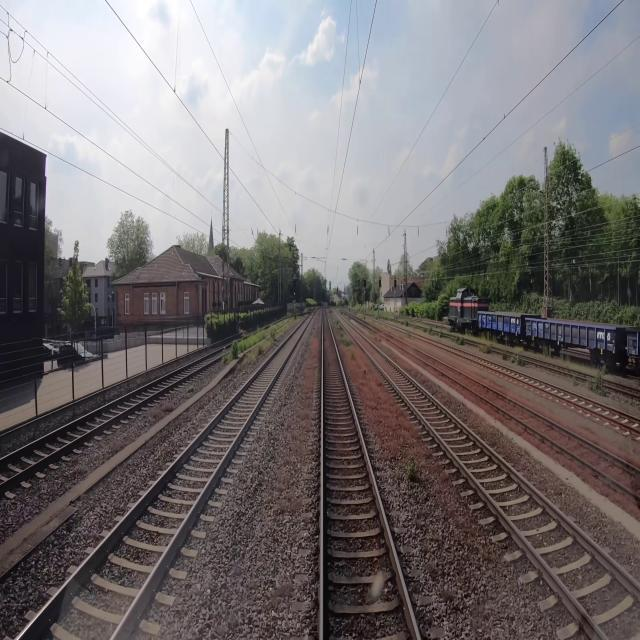Plant: (247, 327, 277, 364), (334, 316, 354, 359), (239, 332, 264, 353), (500, 351, 530, 367), (590, 374, 608, 396), (222, 342, 238, 364), (406, 459, 420, 480), (480, 345, 492, 353), (455, 337, 465, 345), (423, 327, 433, 335), (356, 304, 364, 312), (401, 320, 408, 327), (438, 330, 443, 338)
